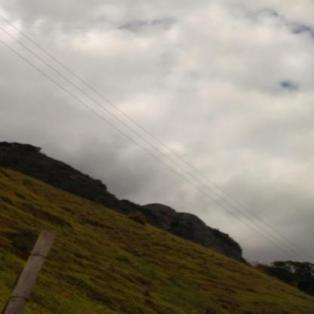Poste: (0, 0, 35, 261)
